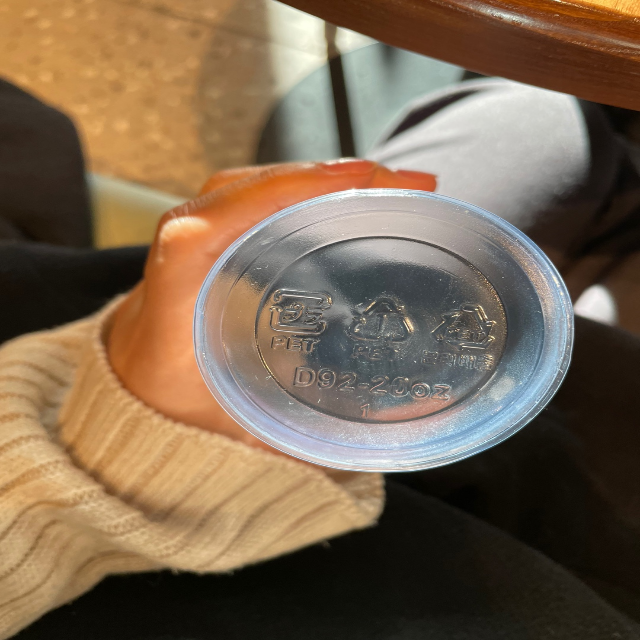pet: (421, 300, 504, 377), (264, 282, 339, 359), (343, 292, 417, 369)
